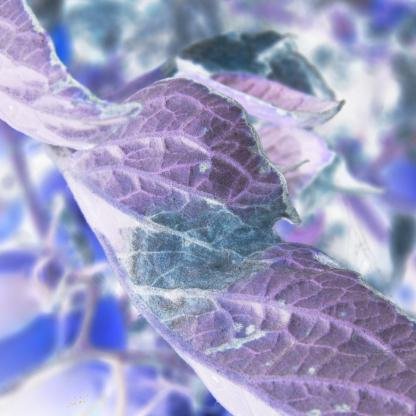tomato leaf late blight: (8, 27, 416, 412)
